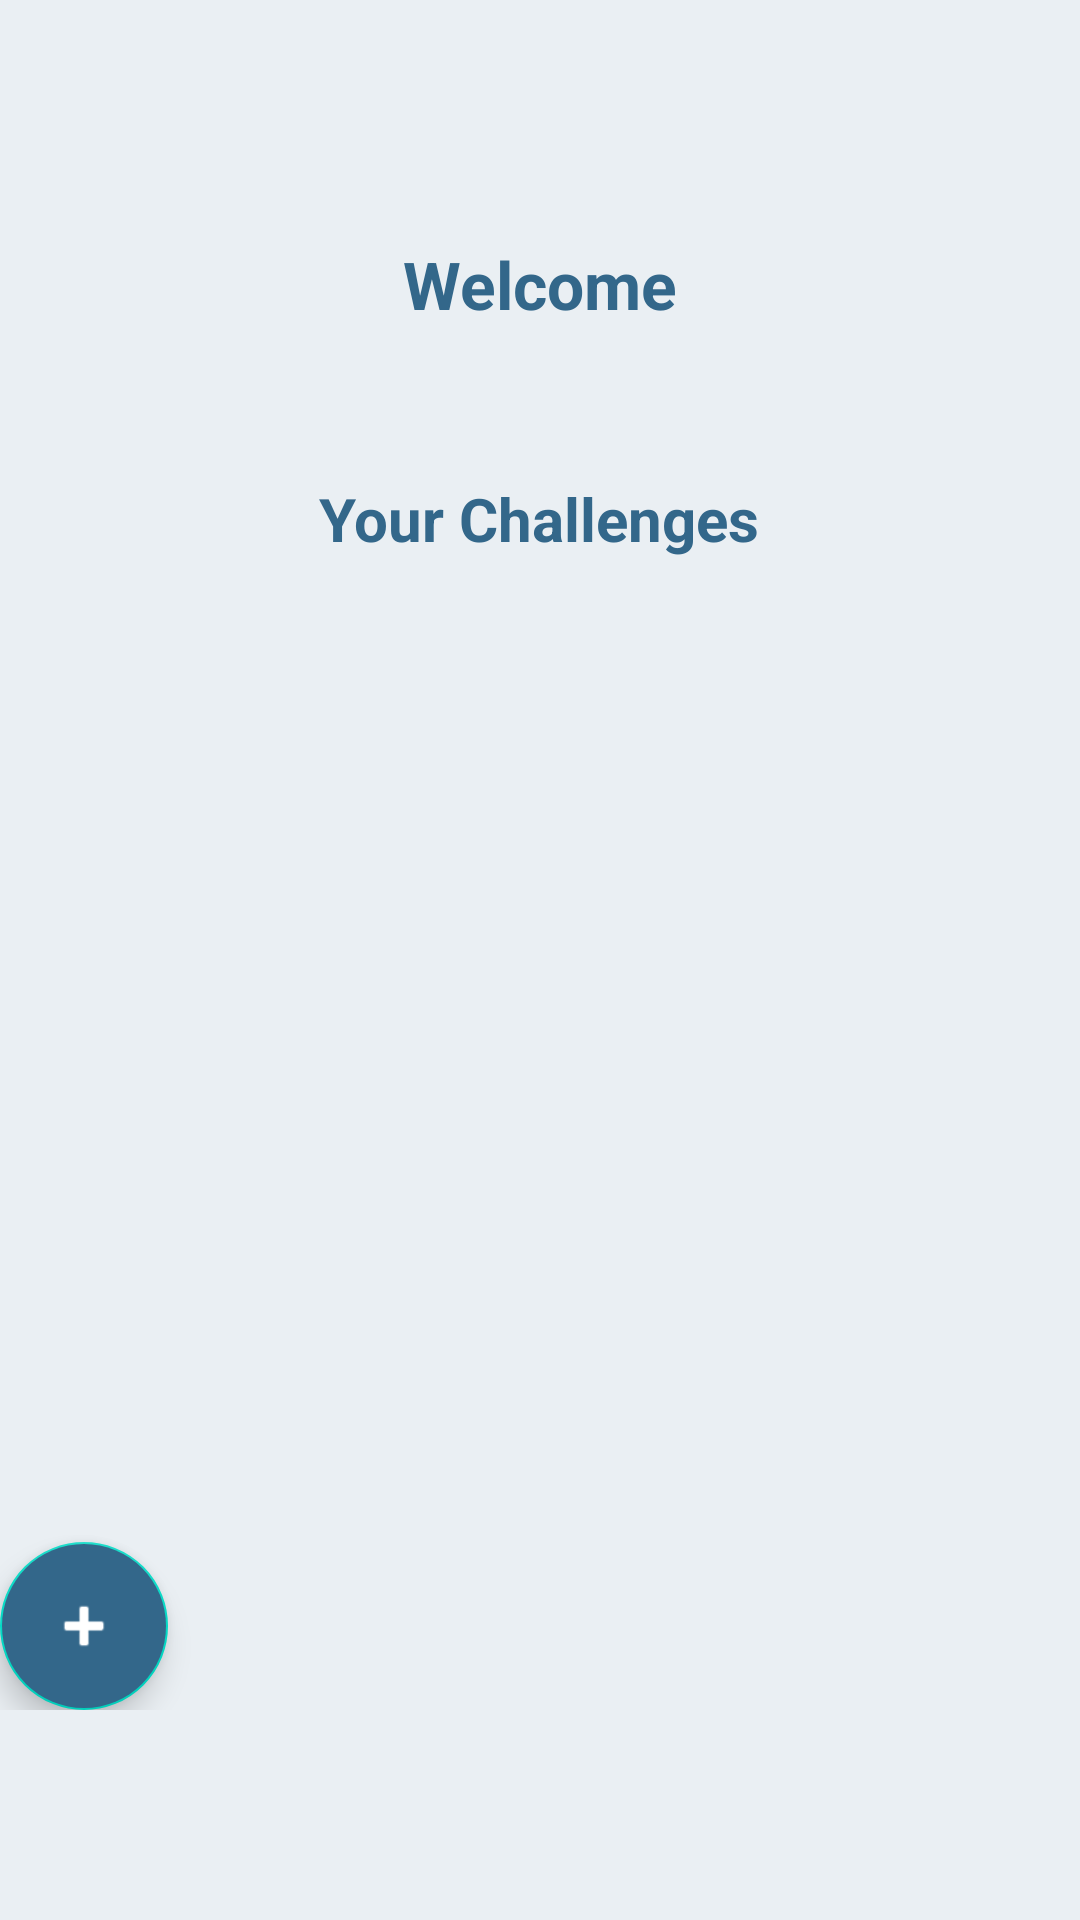

Screen size 1080 x 1920. Icon name, then its center in pixels as (x,y):
add: (84,1626)
